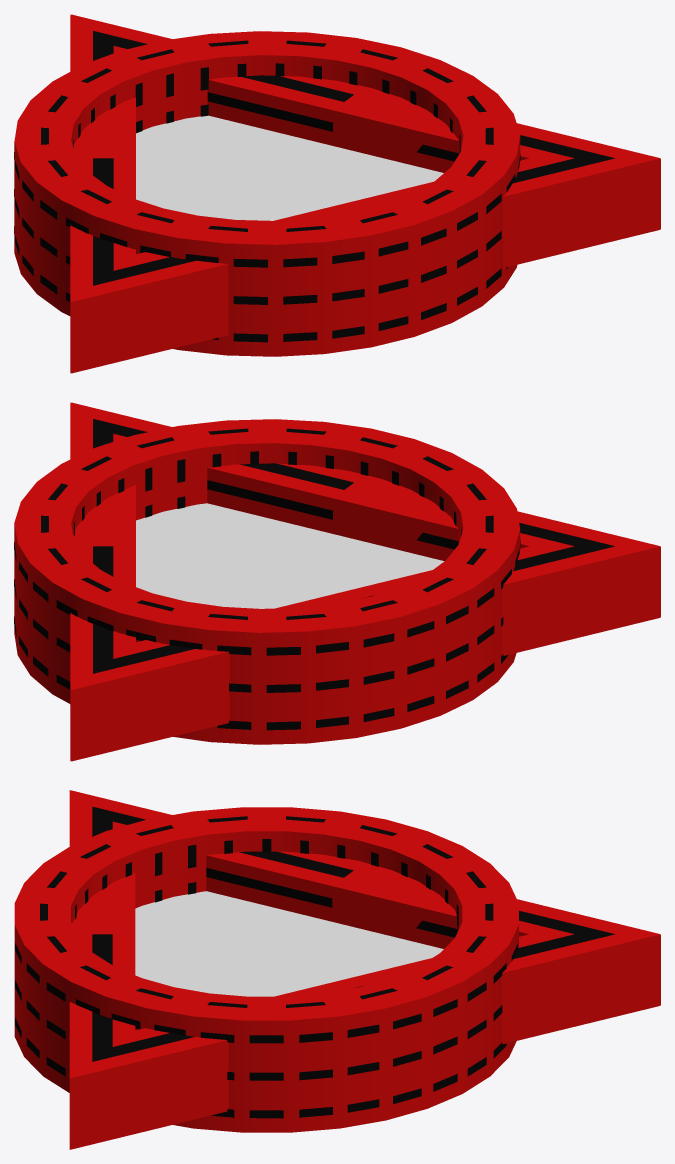
The model's file is Gates.fbx.
3 renders of one model, top to bottom at view 1: azimuth 30°, elevation 25°; view 2: azimuth 150°, elevation 25°; view 3: azimuth 270°, elevation 25°, orthographic.
Parts seen in each view (by area): view 1: Gate_Circle, Gate_Triangle, Gate_Triangle_Spiral, Gate_Circle_Spiral; view 2: Gate_Circle, Gate_Triangle, Gate_Triangle_Spiral, Gate_Circle_Spiral; view 3: Gate_Circle, Gate_Triangle, Gate_Triangle_Spiral, Gate_Circle_Spiral.
Part boxes in pixels (box(x1,y1,x2,y2)): Gate_Circle: box(14, 31, 520, 356); Gate_Triangle: box(70, 14, 660, 373); Gate_Triangle_Spiral: box(136, 115, 443, 220); Gate_Circle_Spiral: box(136, 127, 443, 220); Gate_Circle: box(14, 419, 520, 744); Gate_Triangle: box(70, 402, 660, 761); Gate_Triangle_Spiral: box(136, 503, 442, 608); Gate_Circle_Spiral: box(136, 504, 443, 608); Gate_Circle: box(14, 807, 518, 1132); Gate_Triangle: box(69, 790, 660, 1149); Gate_Triangle_Spiral: box(135, 891, 443, 996); Gate_Circle_Spiral: box(136, 891, 442, 962).
Size of the model in its own units: 6.75 by 1.26 by 6.4.
